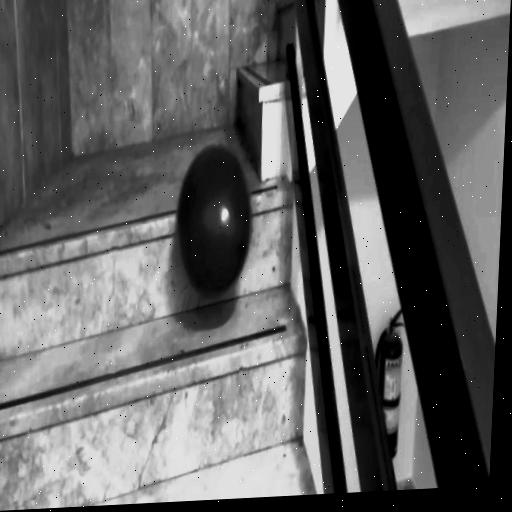balloon: (165, 130, 265, 316)
